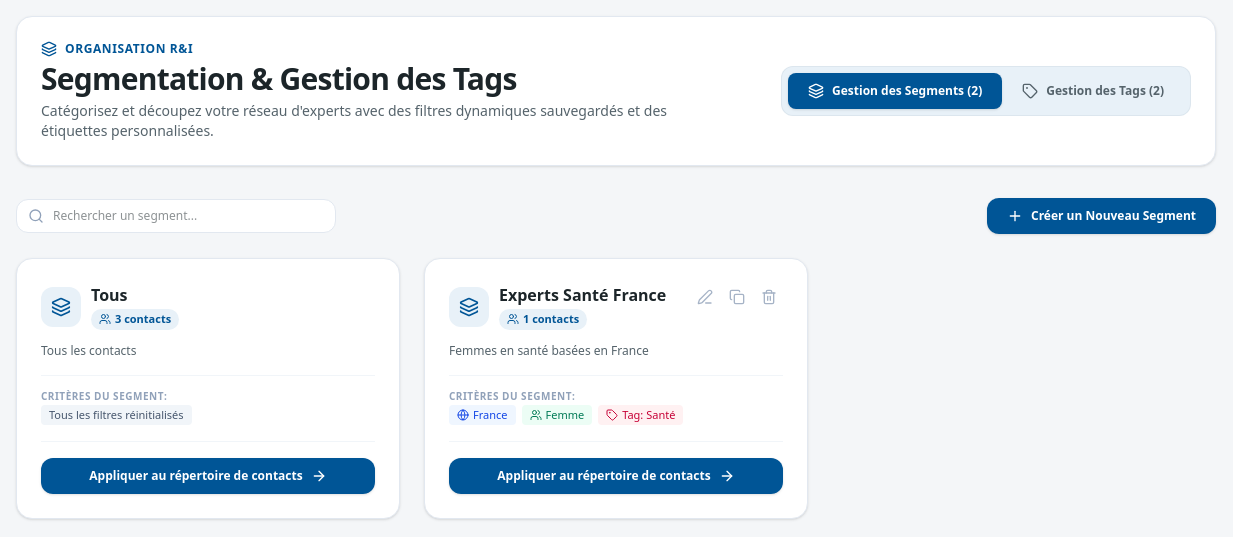
Scenario: SegmentationView › Tab switching › switches back to segments tab
What coordinates should you click on to do the following:
click the button "Gestion des Tags (2)"
I would click on:
 (1093, 91)
Its box is 1002,73 -> 1184,109.
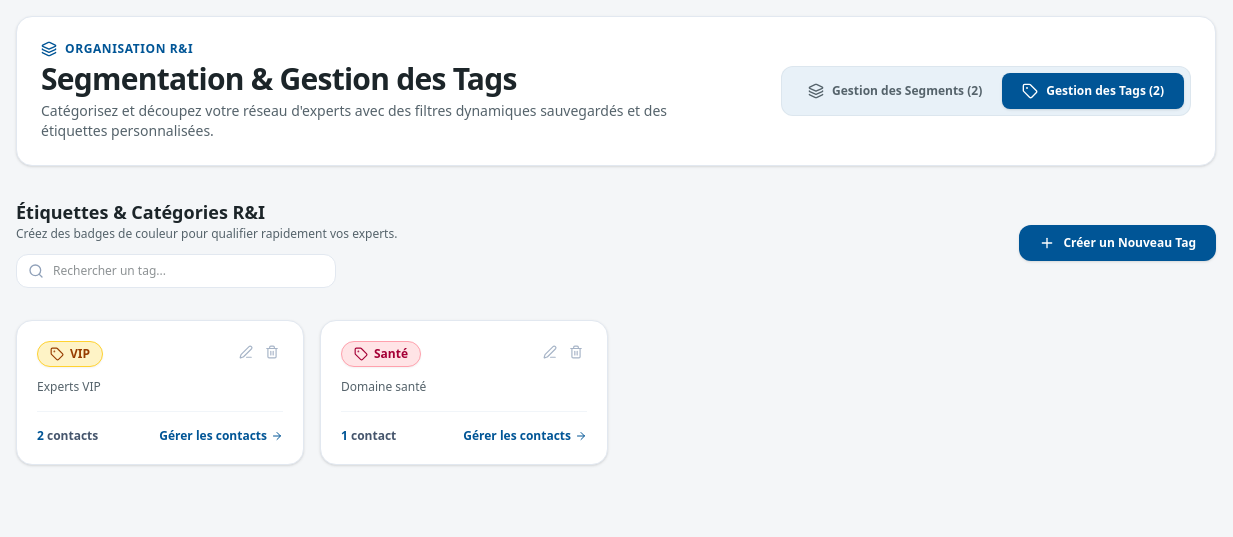
What coordinates should you click on to do the following:
click the button "Gestion des Segments (2)"
I would click on:
 (895, 91)
Its box is 788,73 -> 1002,109.
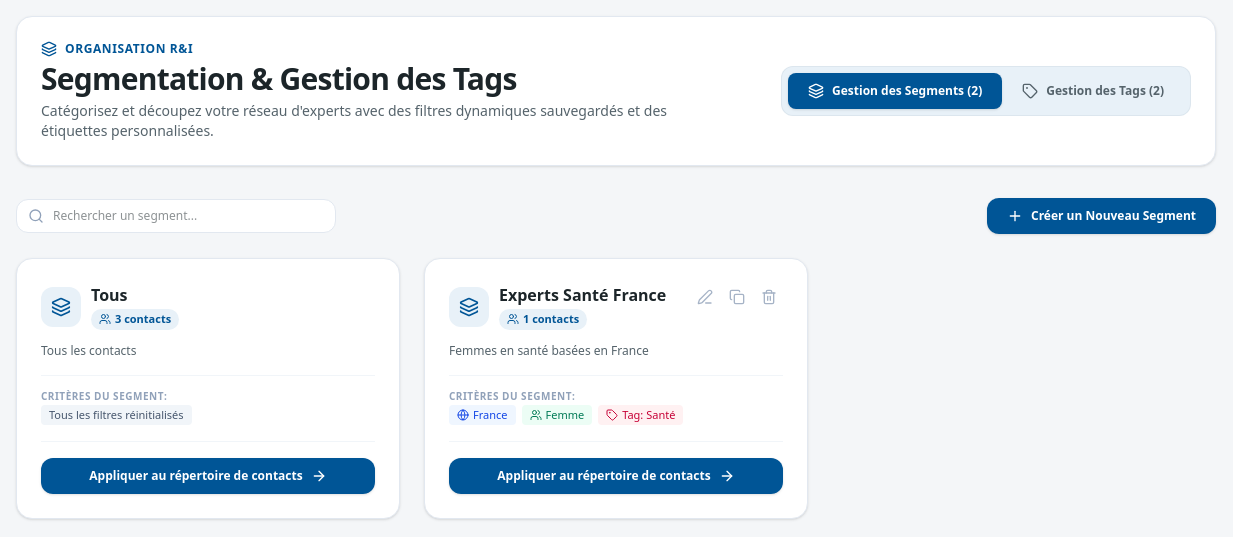
Expected: the heading "Tous" is shown, 91,284 -> 128,306
